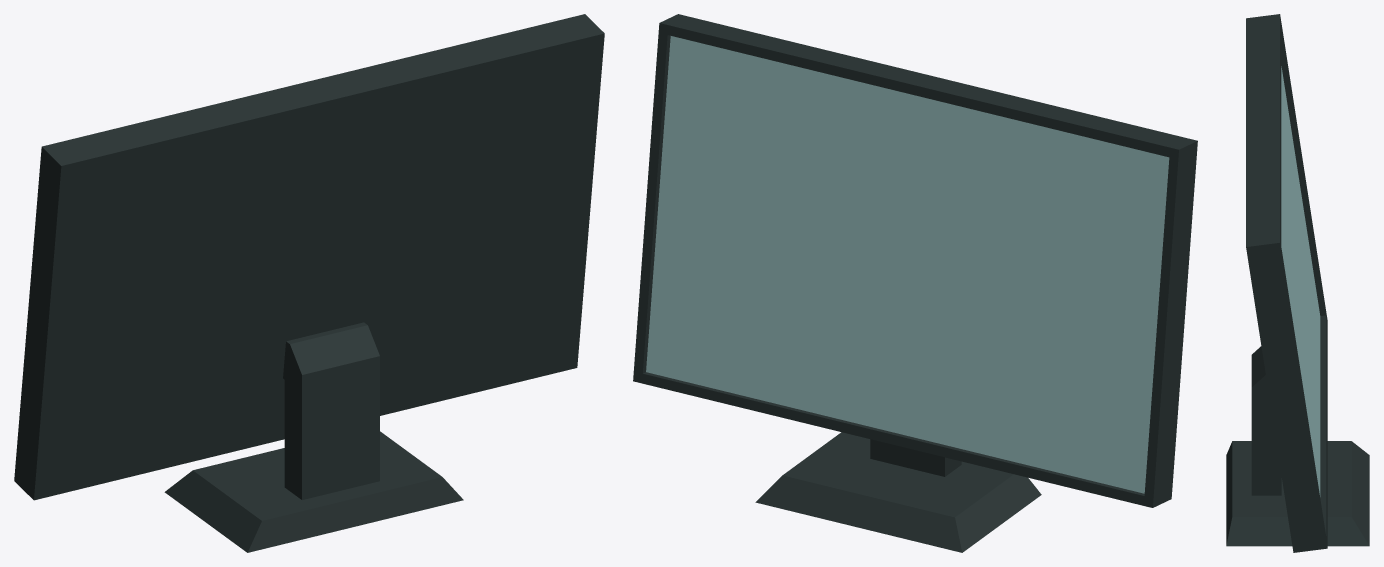
File: computerScreen.glb
3 views of the same model, side by side, from view 1: azimuth 30°, elevation 25°; view 2: azimuth 150°, elevation 25°; view 3: azimuth 270°, elevation 25° (orthographic). The views are drawn at different scales.
Size of the model in its own units: 3.93 by 2.94 by 1.04.
